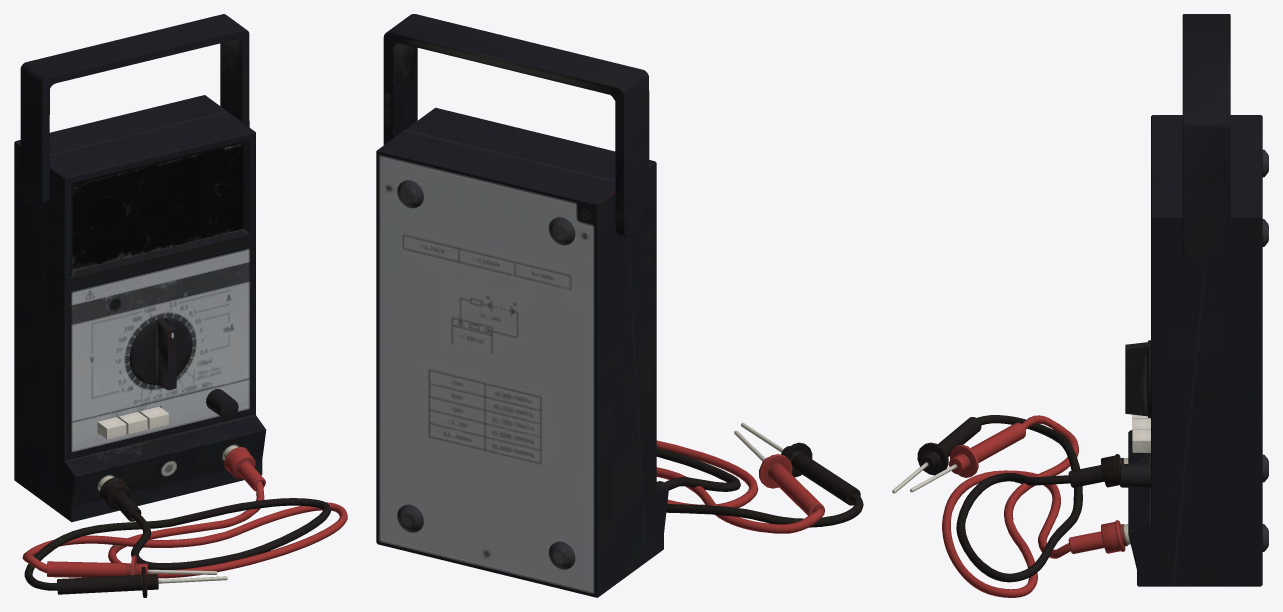
Rendered from multimeter.glb.
3 views of the same model, side by side, from view 1: azimuth 30°, elevation 25°; view 2: azimuth 150°, elevation 25°; view 3: azimuth 270°, elevation 25° (orthographic). The views are drawn at different scales.
Visible parts, largest first — view 1: retro_multimeter_LOD0; view 2: retro_multimeter_LOD0; view 3: retro_multimeter_LOD0.
Part boxes in pixels (x1,y1,x2,y2): retro_multimeter_LOD0: (14,14,347,597); retro_multimeter_LOD0: (376,14,863,597); retro_multimeter_LOD0: (892,14,1268,597).
Bounding box in the file's own units: 0.216 × 0.2786 × 0.2026.
Materials: 2 (2 with a texture image).
